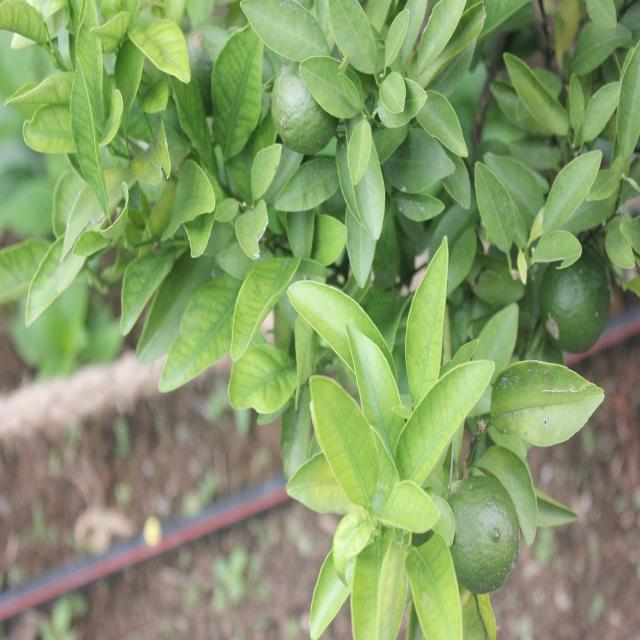greening: (406, 360, 490, 473), (165, 279, 242, 386), (309, 380, 377, 488), (406, 234, 452, 386), (215, 13, 261, 156), (234, 252, 304, 338), (67, 52, 105, 208), (408, 542, 466, 638), (347, 324, 399, 428), (229, 348, 297, 413), (136, 15, 193, 90), (27, 240, 75, 324), (383, 474, 441, 534)
